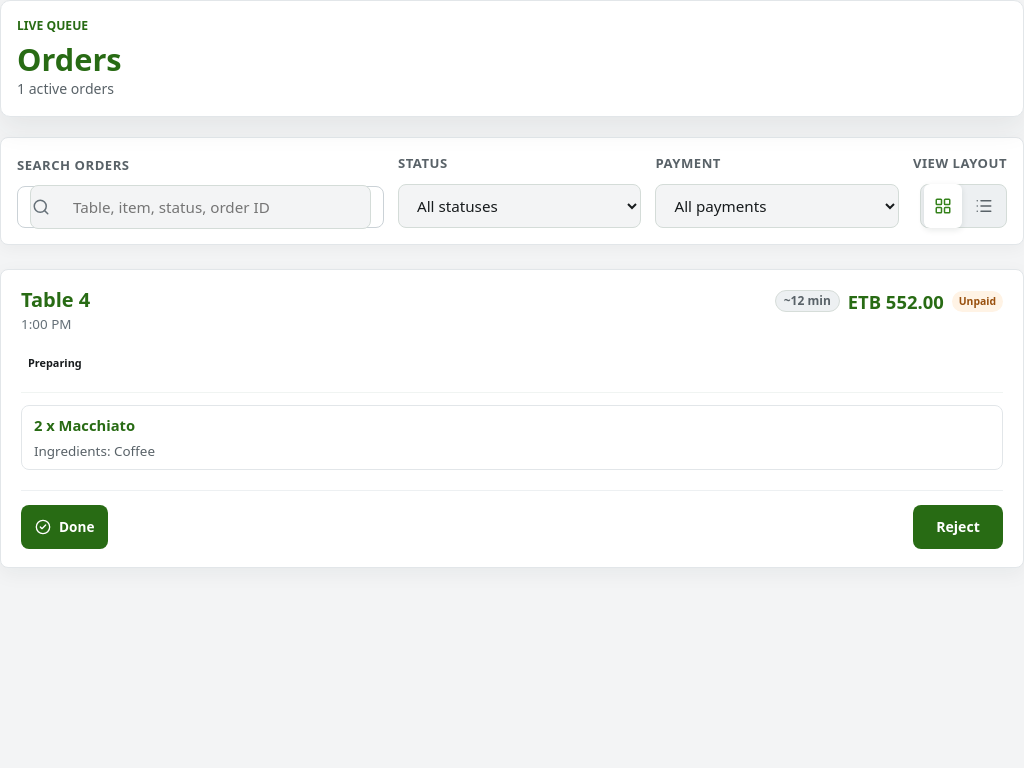
Test: AdminOrders › searches active orders by item and table number
Expected: the heading "Table 4" is shown, [21,288,90,312]
Type "macchiato" into the field with placeholder "Table, item, status, order ID". click: (200, 207)
box: [30,185,371,229]
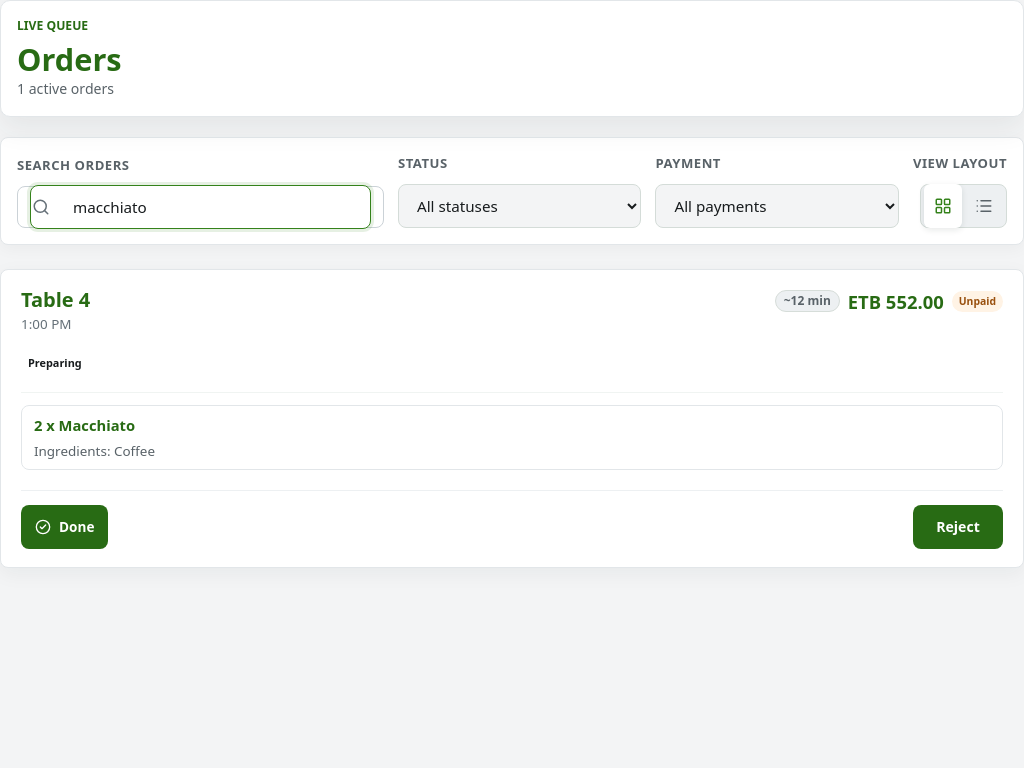
Expected: the heading "Table 4" is shown, [21,288,90,312]
Replace the text in the field with placeholder "Table, item, status, order ID" with "nonexistent". click: (200, 207)
box: [30,185,371,229]
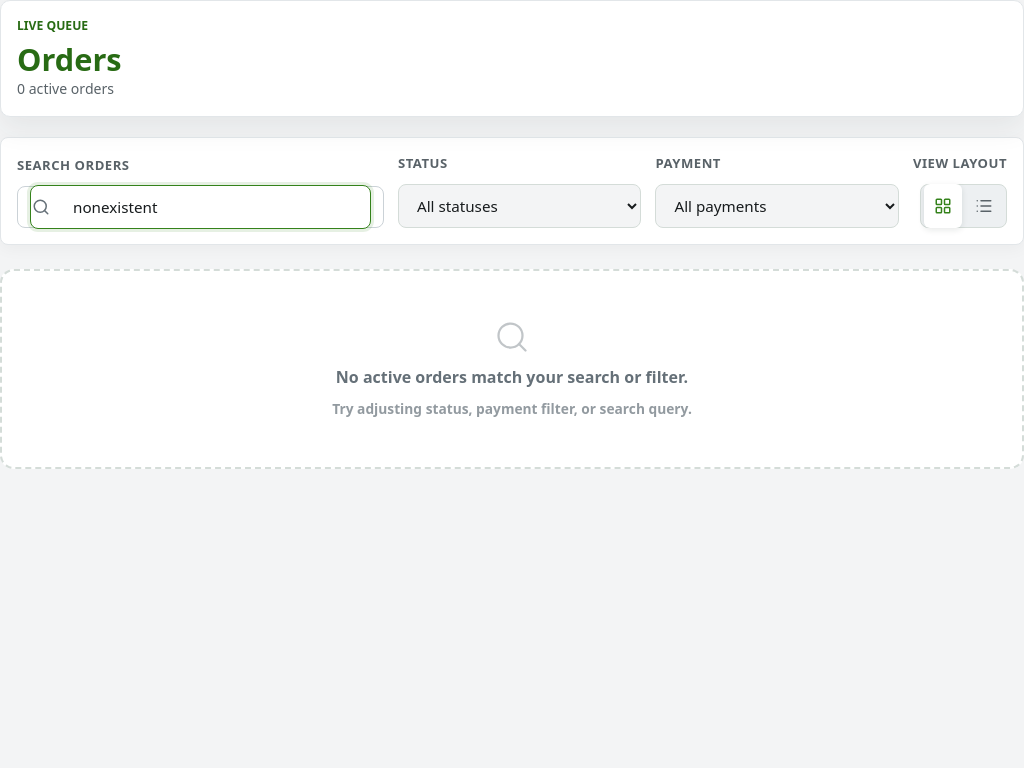
Expected: the heading "Table 4" is gone
